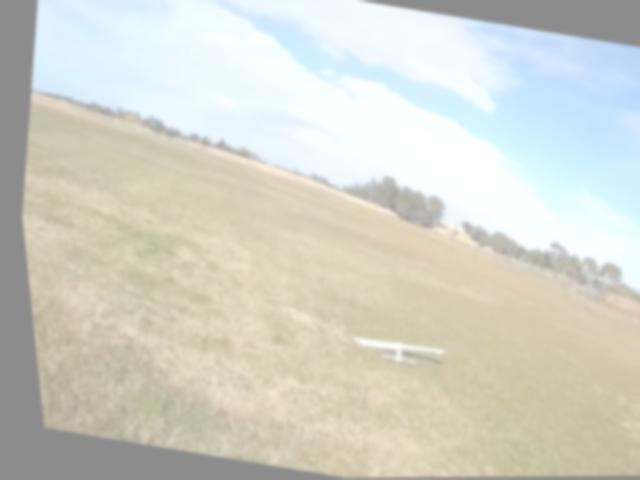uav: (335, 317, 451, 381)
